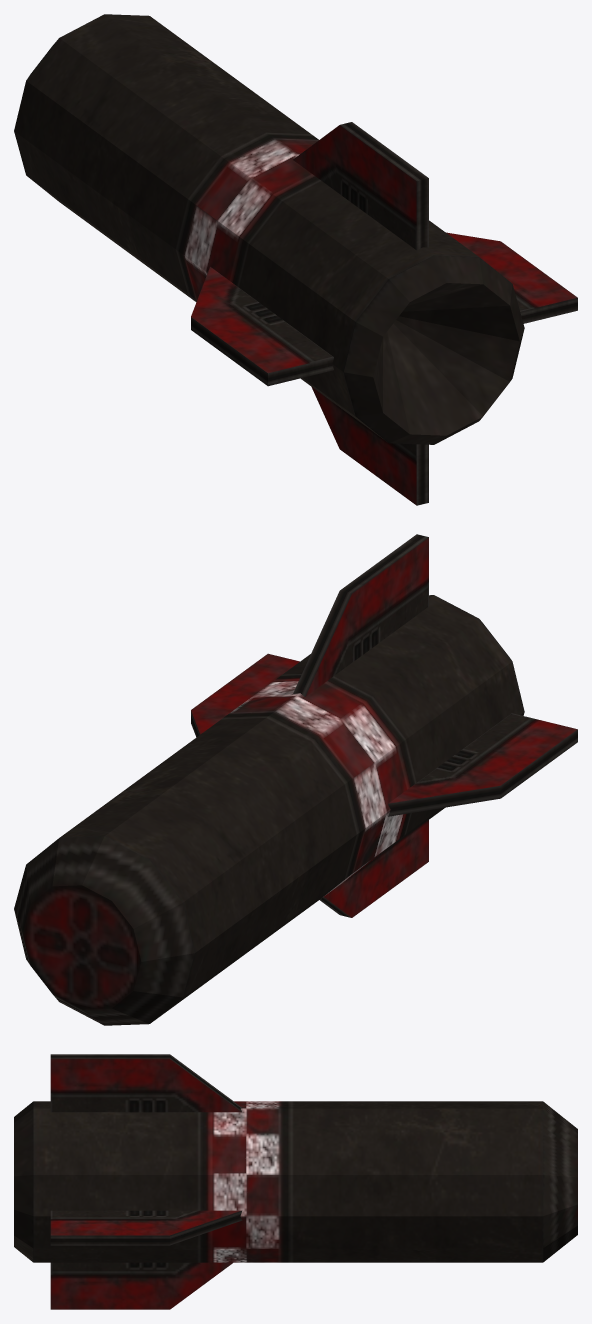
File: rocket.fbx
3 views of the same model, one above another, from view 1: azimuth 30°, elevation 25°; view 2: azimuth 150°, elevation 25°; view 3: azimuth 270°, elevation 25° (orthographic). The views are drawn at different scales.
Visible parts, largest first — view 1: rocket:Regroup00; view 2: rocket:Regroup00; view 3: rocket:Regroup00.
Part boxes in pixels (x1=…): rocket:Regroup00: x1=14, y1=14, x2=577, y2=505; rocket:Regroup00: x1=14, y1=534, x2=577, y2=1025; rocket:Regroup00: x1=14, y1=1054, x2=577, y2=1309.
Bounding box in the file's own units: 13.7 × 13.7 × 27.9.
Materials: 1 (1 with a texture image).
